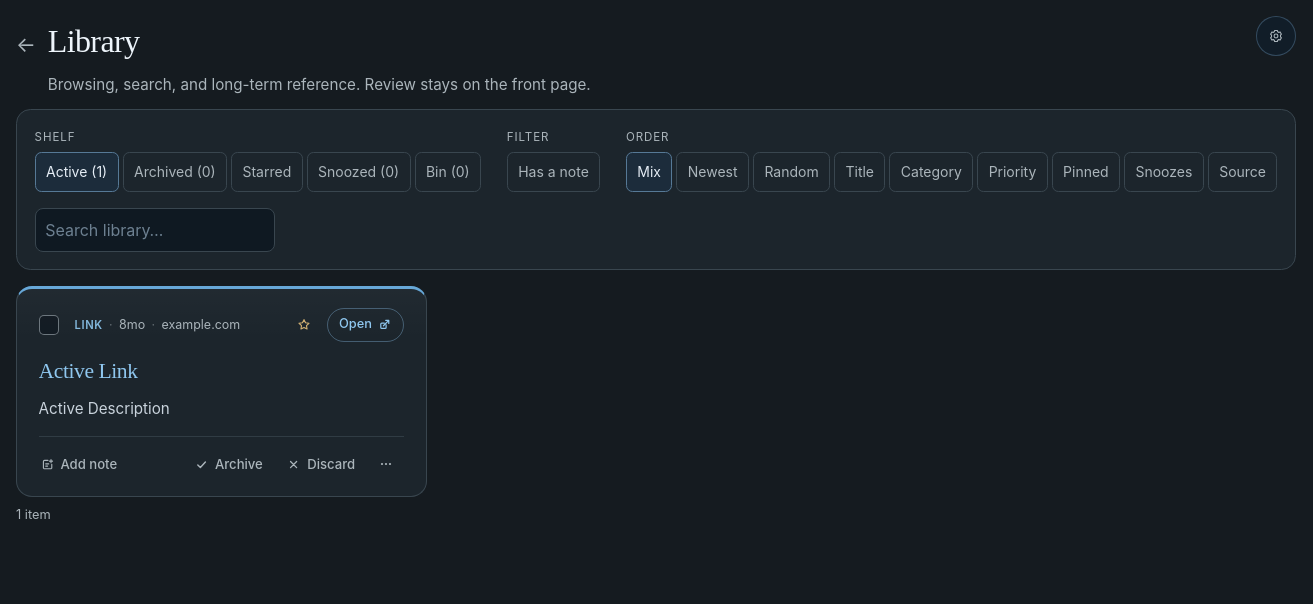
Scenario: ItemsClient UI actions and Bin visibility › handles failed discard action without falsely reporting success
Expected: the link "Active Link" is shown, [39, 359, 138, 383]
Click the button "Discard".
click(321, 464)  # box [276, 446, 366, 482]
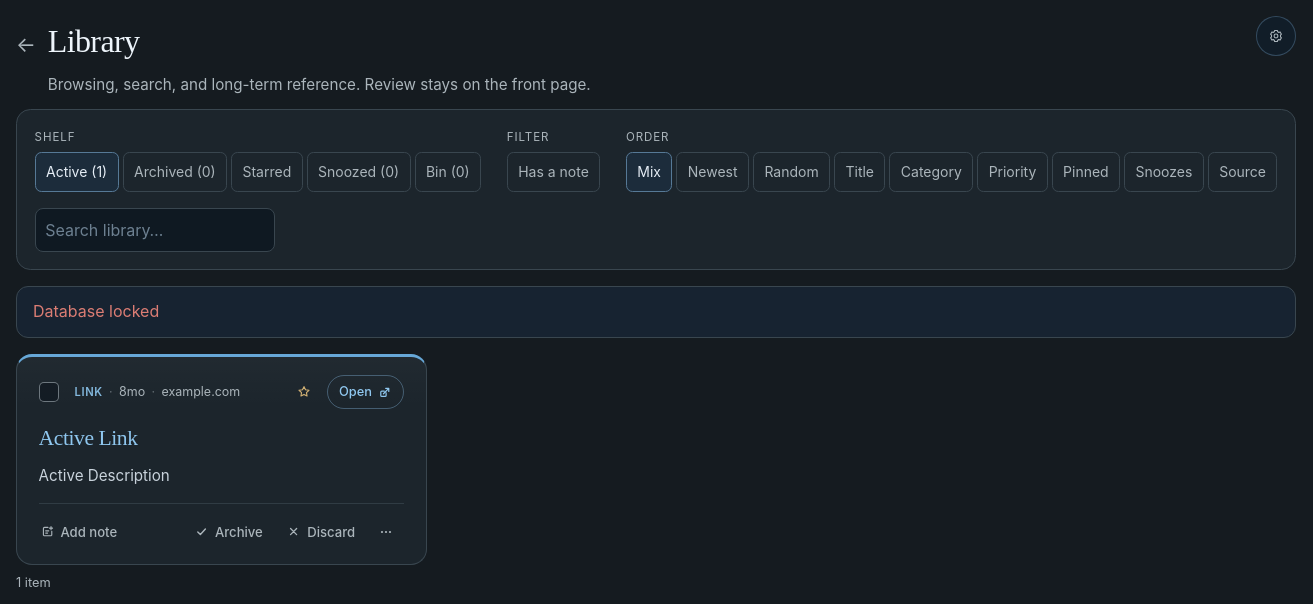
Expected: the link "Active Link" is shown, [39, 426, 138, 450]
Expected: the text "Database locked" is shown, [16, 286, 1296, 338]
